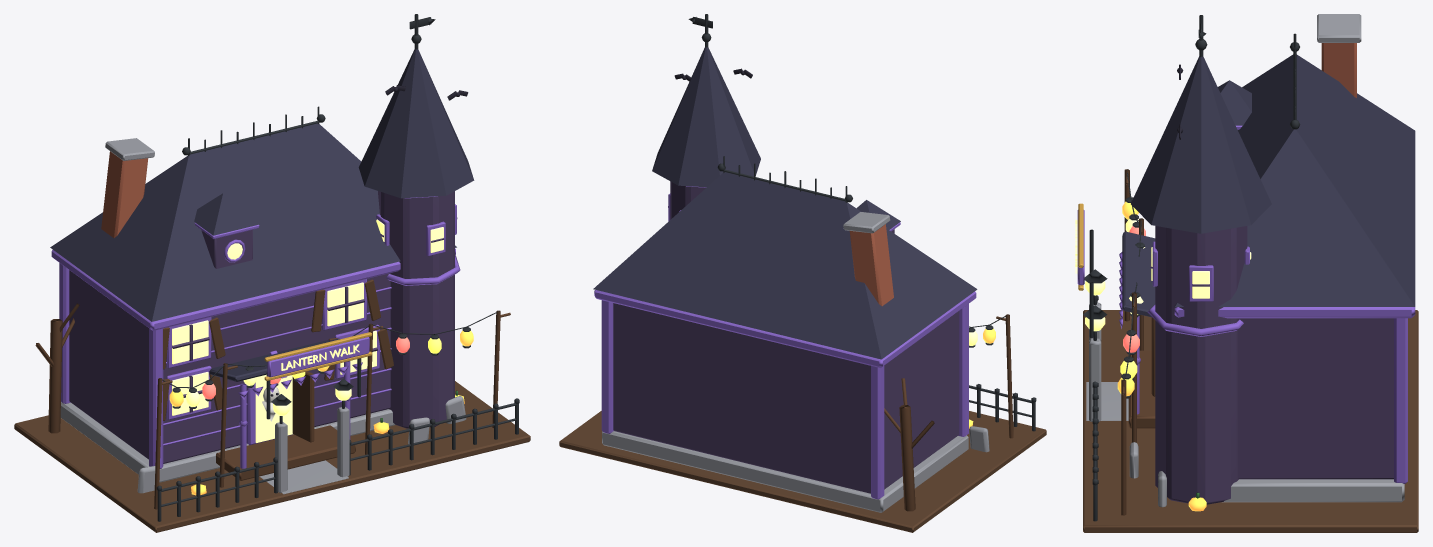
The model's file is spookwalk.glb.
The picture shows the model from 3 angles, left to right: view 1: azimuth 30°, elevation 25°; view 2: azimuth 150°, elevation 25°; view 3: azimuth 270°, elevation 25°; orthographic projection. The views are drawn at different scales.
Visible parts, largest first — view 1: base_pw_slate_shingle, base_pw_plum_paint, base_pw_soil, base_pw_purple_paint, base_pw_darkwood, base_pw_grave, base_pw_iron_iron, base_pw_glow_glow.001, base_pw_brick, base_pw_glow_glow.002, base_pw_gold_brass; view 2: base_pw_slate_shingle, base_pw_plum_paint, base_pw_soil, base_pw_purple_paint, base_pw_grave, base_pw_brick, base_pw_darkwood, base_pw_iron_iron; view 3: base_pw_slate_shingle, base_pw_plum_paint, base_pw_soil, base_pw_grave, base_pw_purple_paint, base_pw_darkwood, base_pw_iron_iron, base_pw_brick, base_pw_glow_glow.001, base_pw_gold_brass.
Boxes of the visible parts, left/top/right/bottom form: base_pw_slate_shingle: left=50, top=49, right=474, bottom=381; base_pw_plum_paint: left=69, top=191, right=457, bottom=463; base_pw_soil: left=14, top=381, right=530, bottom=532; base_pw_purple_paint: left=51, top=196, right=460, bottom=468; base_pw_darkwood: left=35, top=279, right=510, bottom=509; base_pw_grave: left=60, top=138, right=466, bottom=494; base_pw_iron_iron: left=156, top=14, right=519, bottom=521; base_pw_glow_glow.001: left=172, top=219, right=443, bottom=415; base_pw_brick: left=101, top=151, right=148, bottom=237; base_pw_glow_glow.002: left=255, top=374, right=292, bottom=442; base_pw_gold_brass: left=264, top=332, right=372, bottom=380; base_pw_slate_shingle: left=593, top=47, right=977, bottom=359; base_pw_plum_paint: left=613, top=181, right=959, bottom=493; base_pw_soil: left=559, top=411, right=1046, bottom=532; base_pw_purple_paint: left=594, top=186, right=976, bottom=499; base_pw_grave: left=602, top=212, right=989, bottom=512; base_pw_brick: left=849, top=224, right=893, bottom=306; base_pw_darkwood: left=884, top=314, right=1013, bottom=511; base_pw_iron_iron: left=688, top=14, right=1036, bottom=431; base_pw_slate_shingle: left=1122, top=54, right=1415, bottom=317; base_pw_plum_paint: left=1150, top=226, right=1393, bottom=504; base_pw_soil: left=1083, top=310, right=1418, bottom=532; base_pw_grave: left=1086, top=14, right=1404, bottom=507; base_pw_purple_paint: left=1077, top=125, right=1415, bottom=483; base_pw_darkwood: left=1121, top=169, right=1155, bottom=515; base_pw_iron_iron: left=1083, top=15, right=1300, bottom=521; base_pw_brick: left=1321, top=43, right=1356, bottom=97; base_pw_glow_glow.001: left=1151, top=247, right=1251, bottom=298; base_pw_gold_brass: left=1078, top=203, right=1083, bottom=290.
Bounding box in the file's own units: 2.9 × 3 × 1.94.
